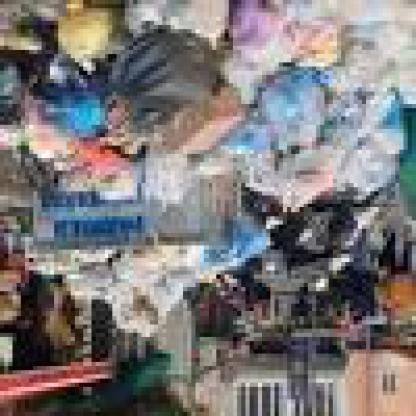Garbage: (0, 4, 354, 171), (254, 4, 412, 208), (58, 254, 237, 337), (96, 29, 208, 133), (258, 42, 316, 158), (25, 80, 116, 150), (38, 4, 116, 58), (212, 224, 278, 274), (108, 287, 174, 329), (146, 266, 228, 296), (70, 258, 112, 296), (33, 262, 79, 283)
